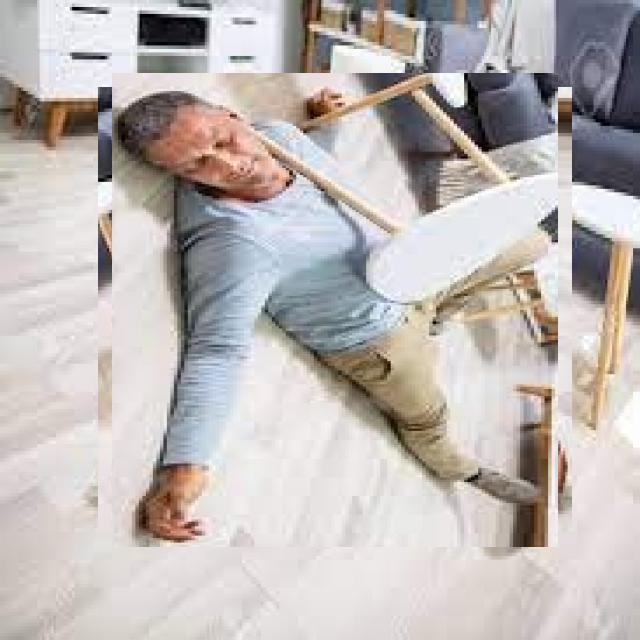Fall: (110, 90, 556, 552)
